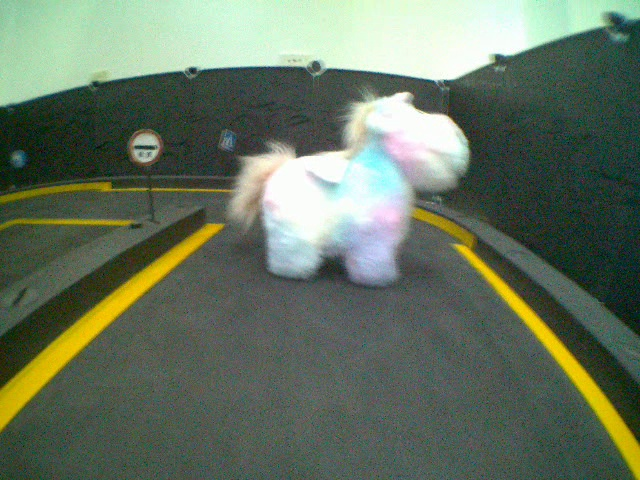unicorn: (220, 81, 475, 291)
